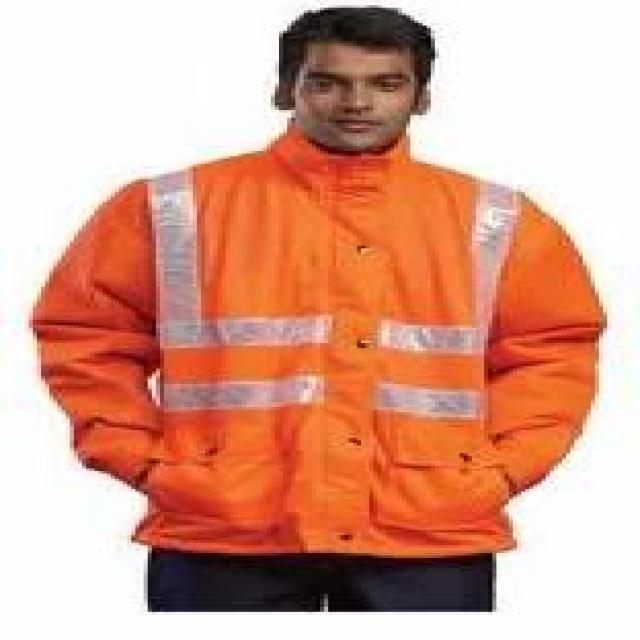Reflective-Jacket: (33, 141, 632, 553)
